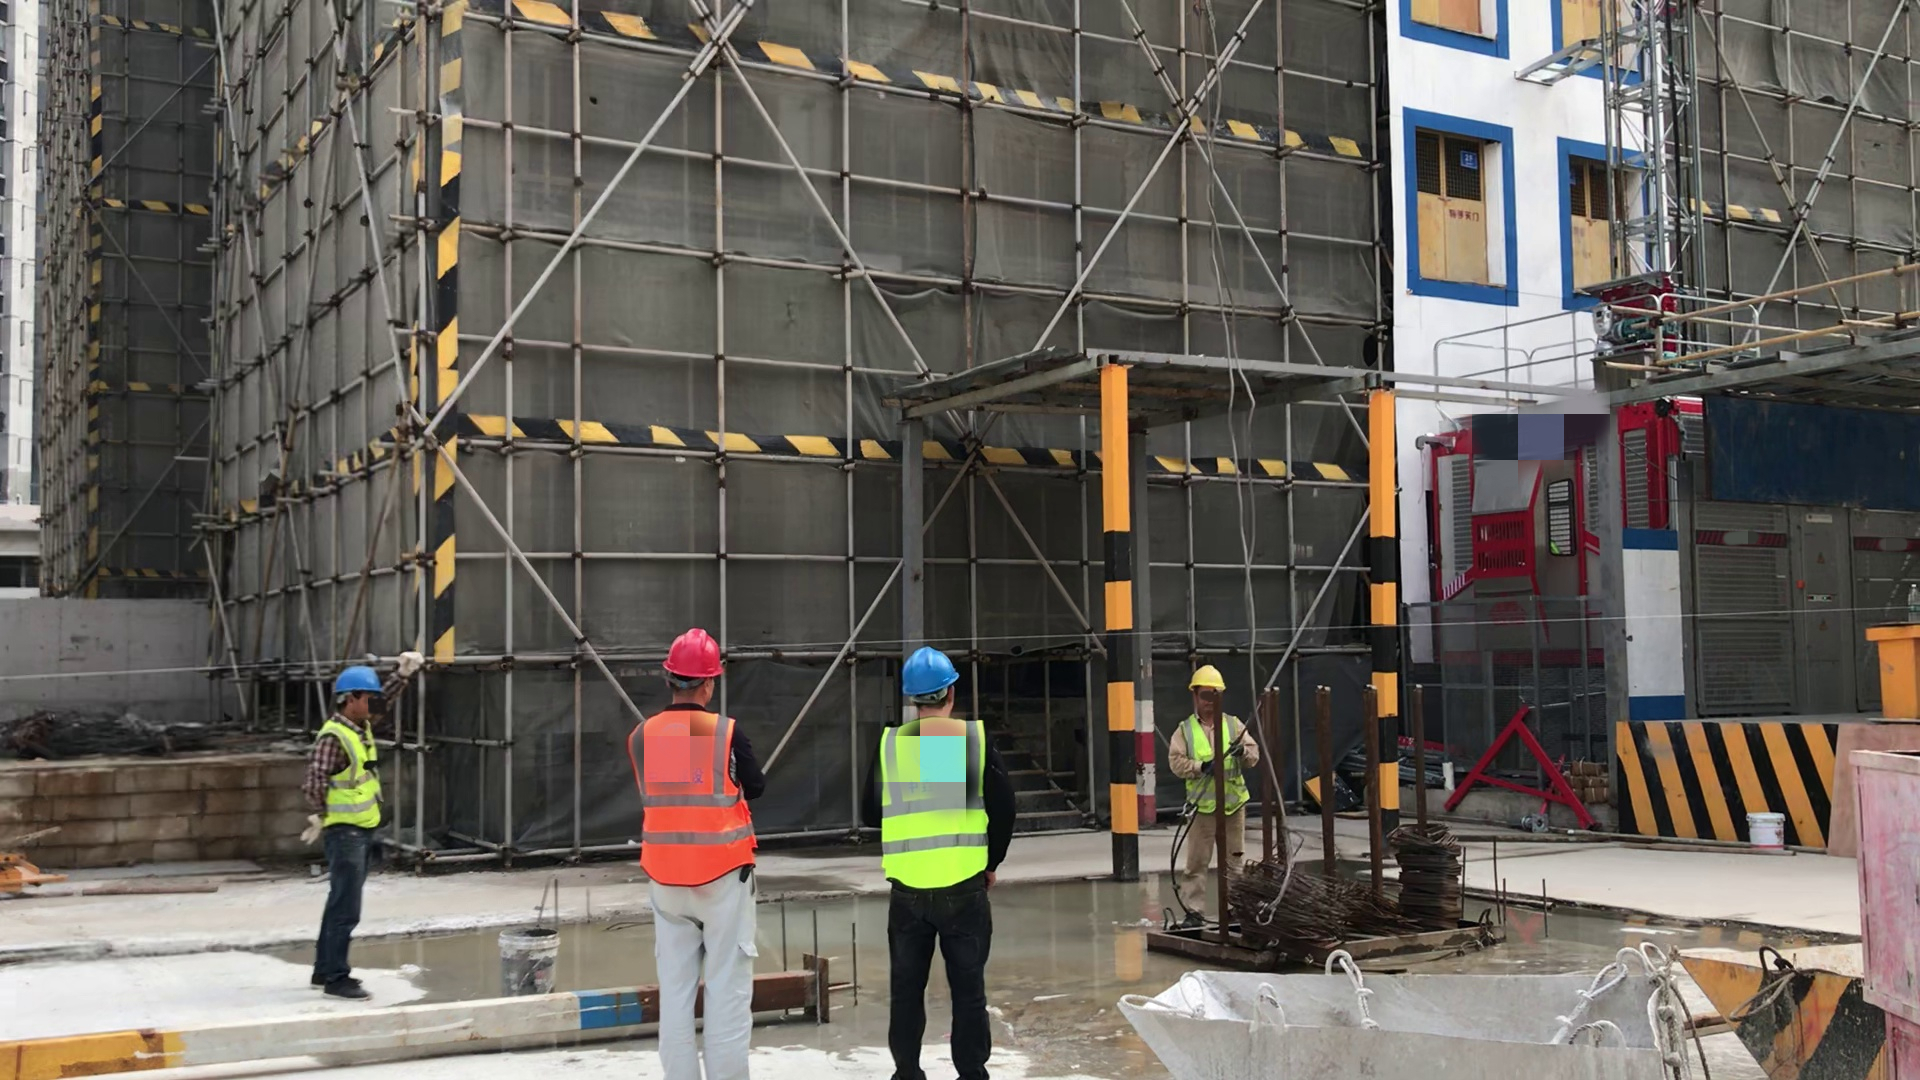helmet: (902, 649, 963, 697), (663, 631, 728, 677), (333, 669, 385, 693), (1185, 668, 1229, 695)
hopper: (1111, 958, 1686, 1080)
person: (630, 634, 769, 1080), (878, 646, 1001, 1080), (315, 672, 417, 997), (1164, 665, 1259, 930)
vest: (636, 709, 759, 880), (884, 712, 988, 897), (321, 716, 387, 834), (1178, 712, 1247, 819)
